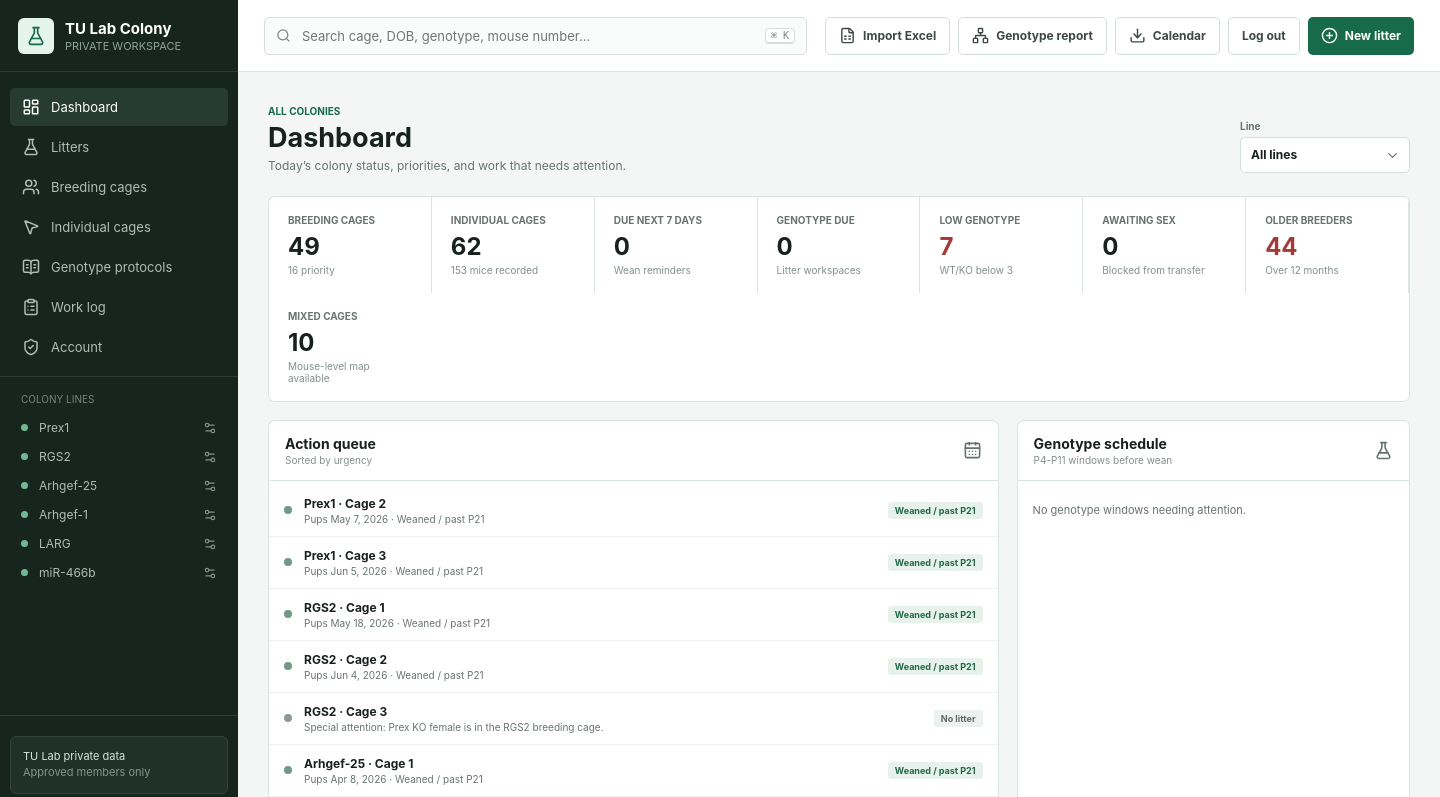
colony line filtering › updates dashboard metrics when a colony line is selected
Click the button "RGS2": (104, 456) x1=14 y1=442 x2=193 y2=471
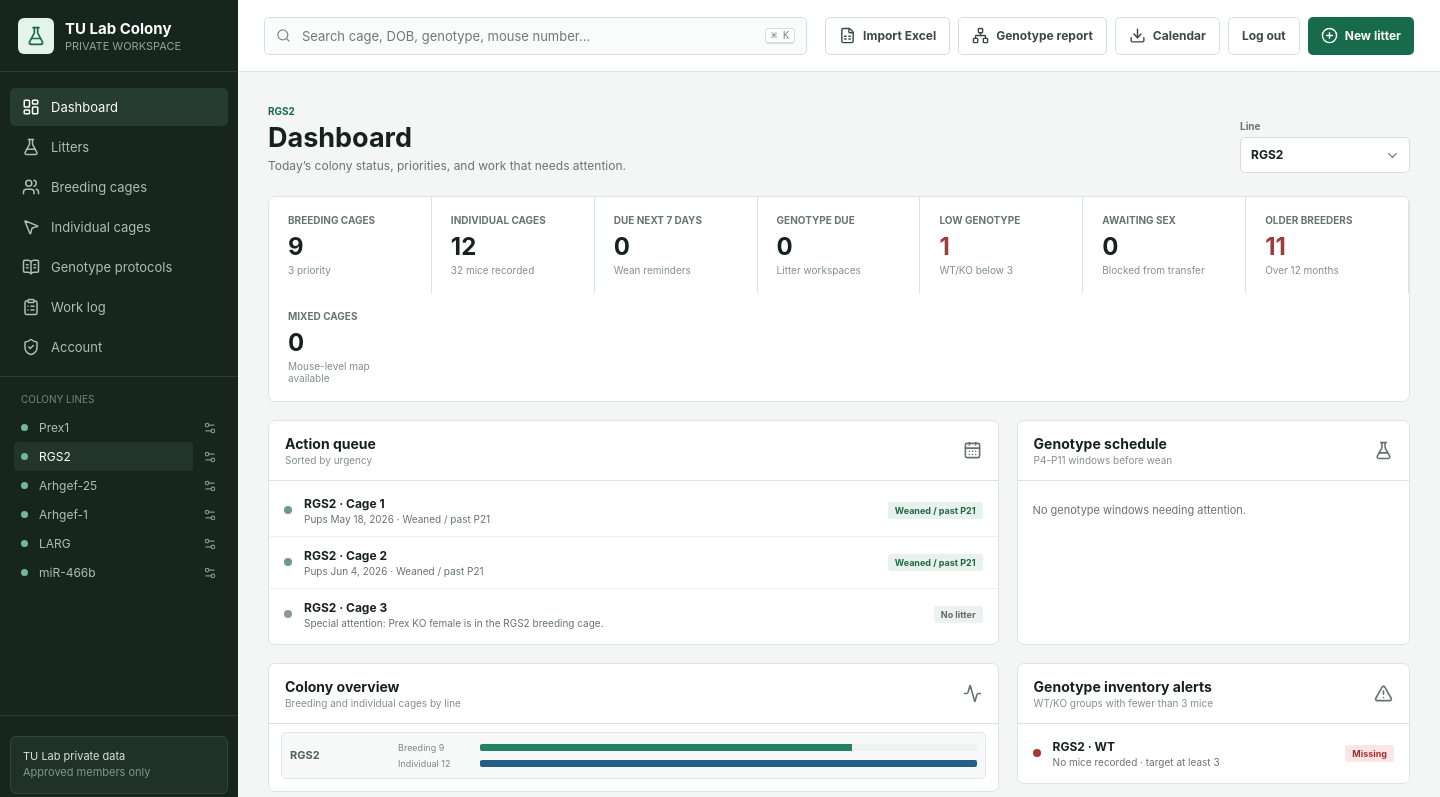
Expected: the text "9" is shown, x1=288 y1=232 x2=304 y2=261
Now the text "12" is shown, box x1=451 y1=232 x2=476 y2=261
Now the text "32 mice recorded" is shown, box x1=451 y1=264 x2=534 y2=276
